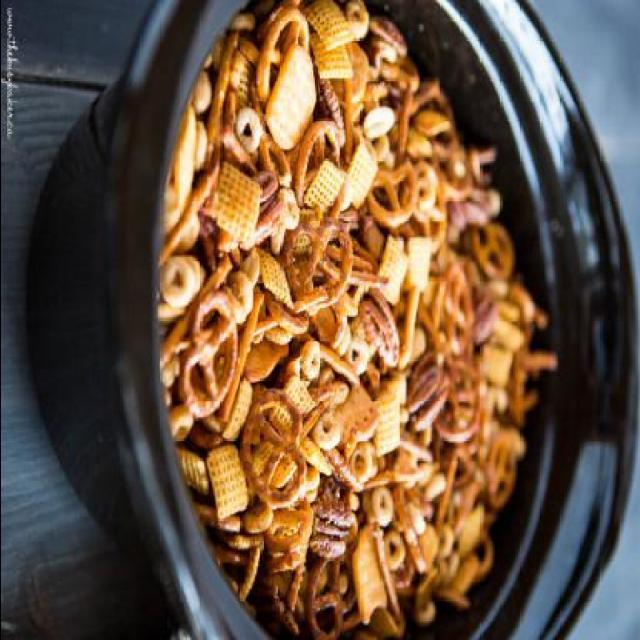Salatini packaged: (168, 15, 550, 631)
